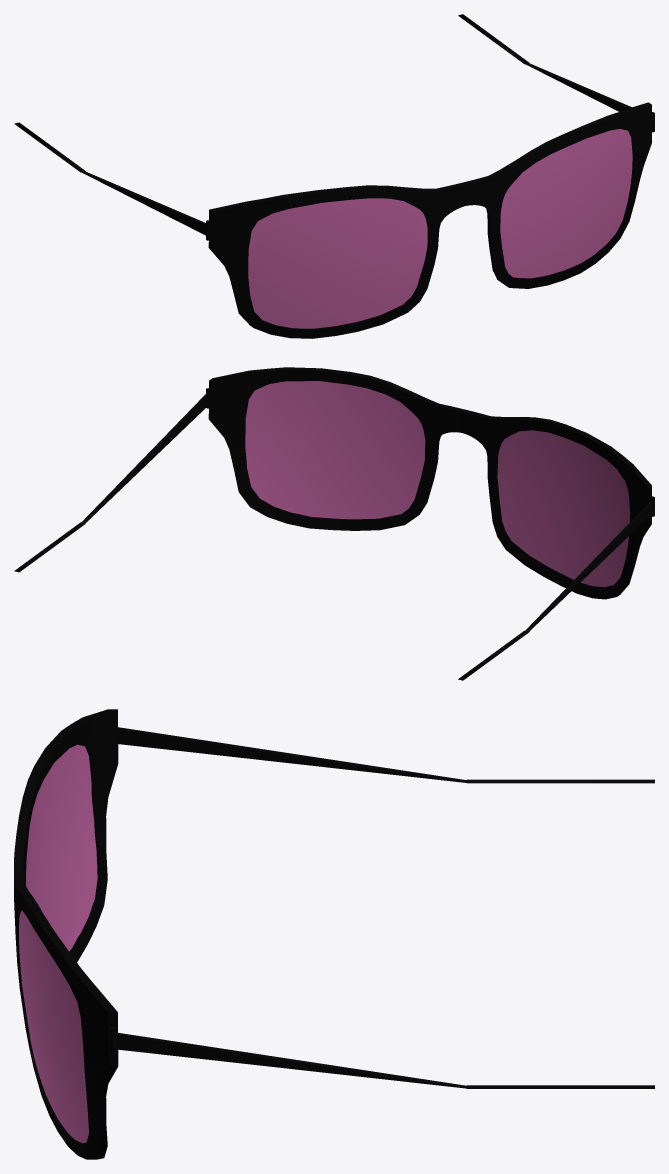
Rendered from aviator.glb.
The picture shows the model from 3 angles, top to bottom: view 1: azimuth 30°, elevation 25°; view 2: azimuth 150°, elevation 25°; view 3: azimuth 270°, elevation 25°; orthographic projection. The views are drawn at different scales.
Parts seen in each view (by area): view 1: glasses20.001; view 2: glasses20.001; view 3: glasses20.001.
Part boxes in pixels (x1=…): glasses20.001: x1=14, y1=14, x2=654, y2=338; glasses20.001: x1=14, y1=367, x2=654, y2=680; glasses20.001: x1=14, y1=709, x2=654, y2=1159.
Size of the model in its own units: 2.17 by 0.7027 by 1.9.
